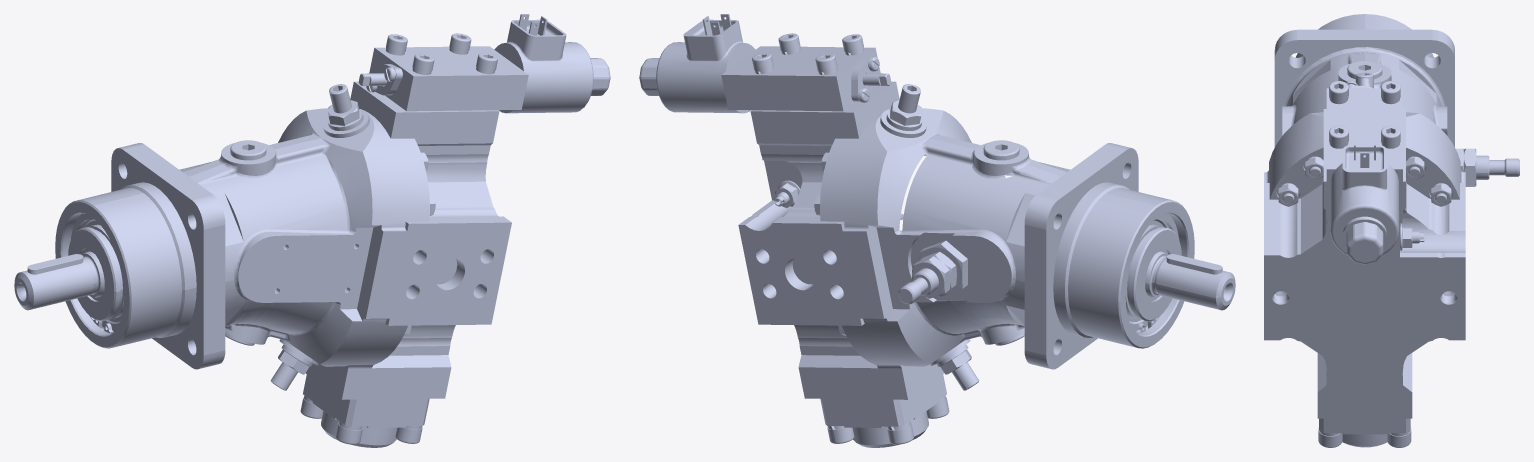
3 renders of one model, left to right at view 1: azimuth 30°, elevation 25°; view 2: azimuth 150°, elevation 25°; view 3: azimuth 270°, elevation 25°, orthographic. The views are drawn at different scales.
Visible parts, largest first — view 1: empty_2; view 2: empty_2; view 3: empty_2.
Boxes of the visible parts, x1,y1,x2,y2 form: empty_2: [14, 14, 610, 447]; empty_2: [639, 14, 1235, 447]; empty_2: [1264, 14, 1519, 447].
Size of the model in its own units: 430 by 270 by 168.
